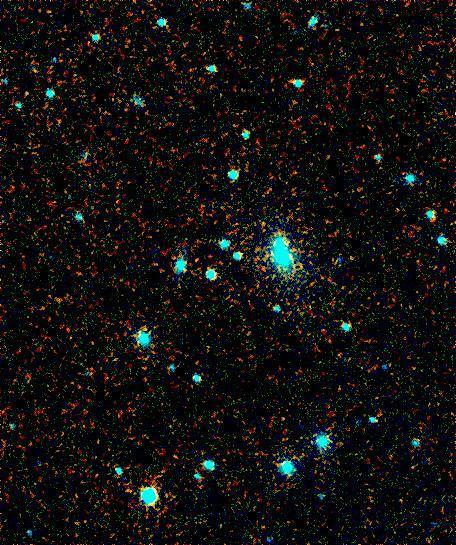star: (15, 77, 45, 107)
